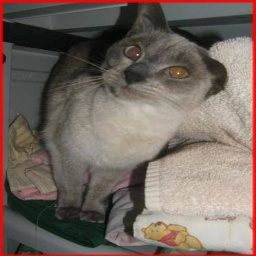cat: (31, 3, 228, 226)
